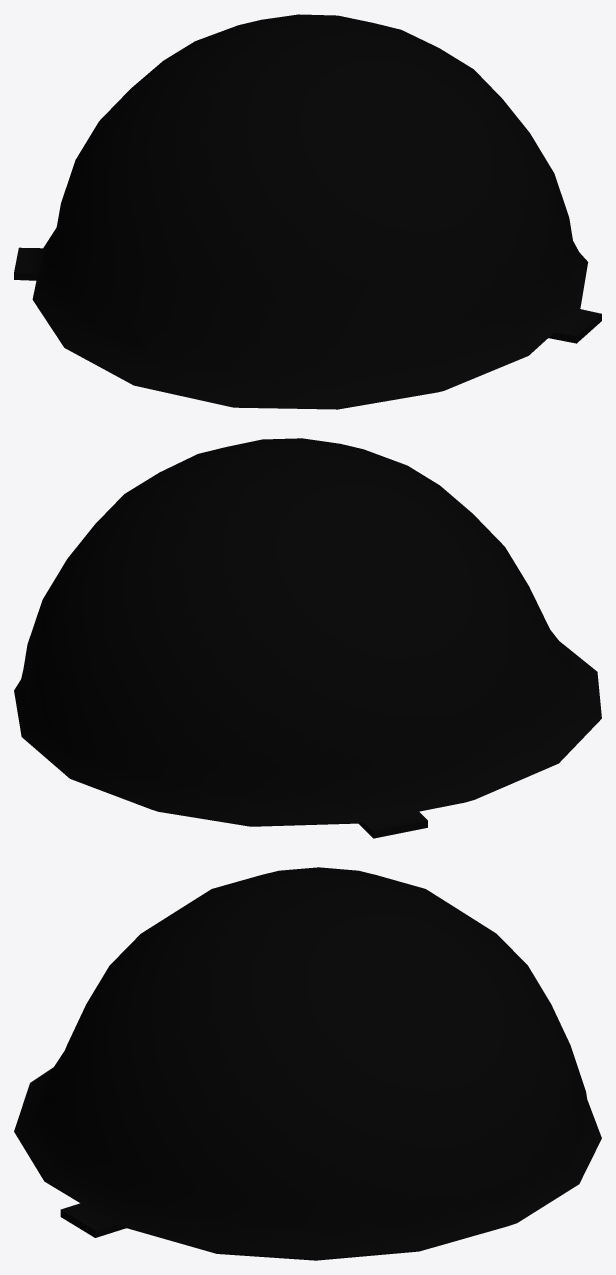
The picture shows the model from 3 angles, top to bottom: view 1: azimuth 30°, elevation 25°; view 2: azimuth 150°, elevation 25°; view 3: azimuth 270°, elevation 25°; orthographic projection. The views are drawn at different scales.
Visible parts, largest first — view 1: Joint_0_Object_0; view 2: Joint_0_Object_0; view 3: Joint_0_Object_0.
Part boxes in pixels (x1,y1,x2,y2): Joint_0_Object_0: (14,14,601,409); Joint_0_Object_0: (14,438,601,838); Joint_0_Object_0: (14,867,601,1260).
Size of the model in its own units: 540 by 256 by 540.
1 material, 1 textured.
